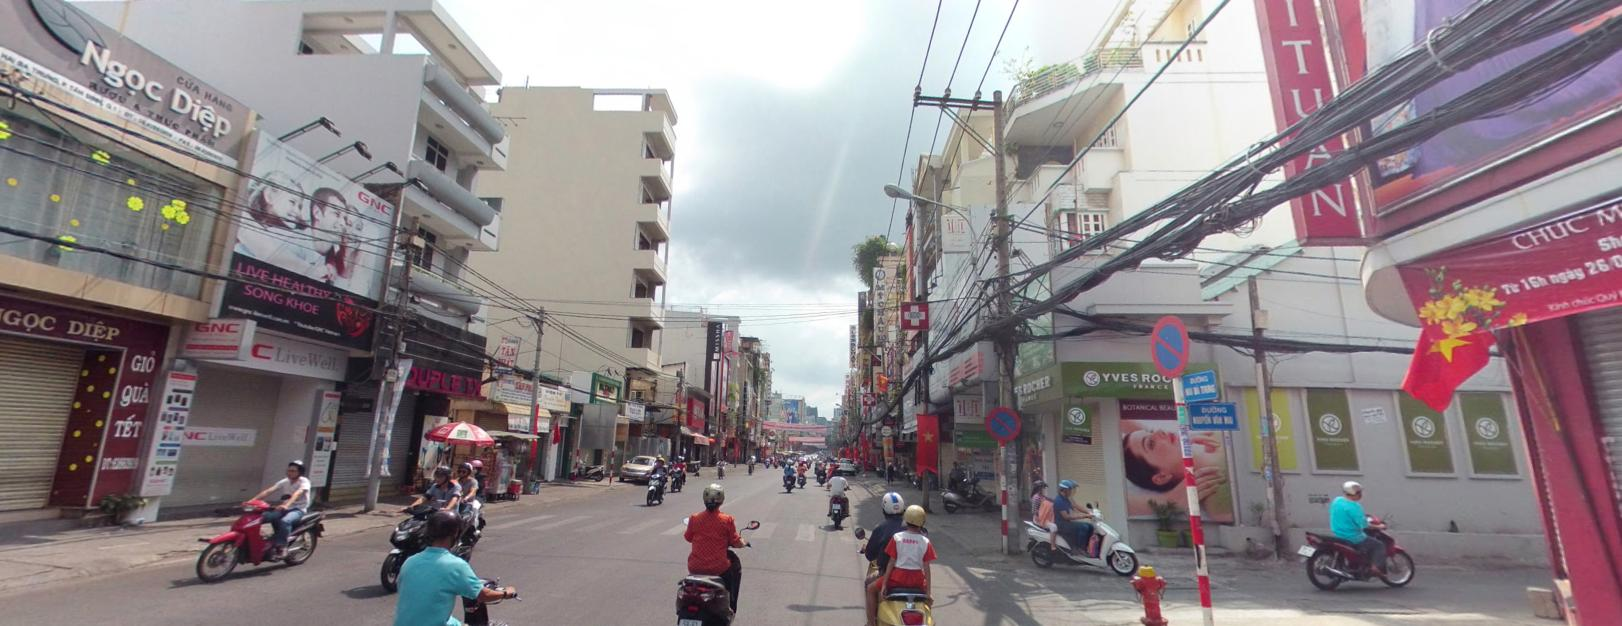Cam dung va do: (1147, 311, 1190, 379), (985, 405, 1020, 439)
